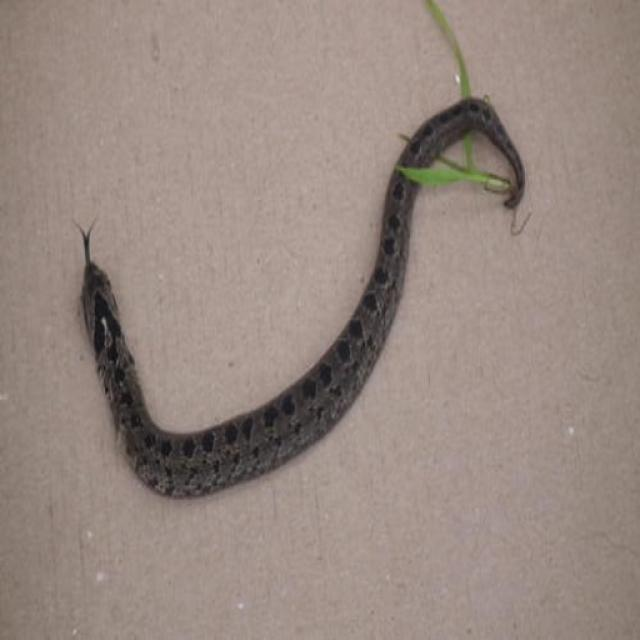snake: (61, 84, 537, 503)
